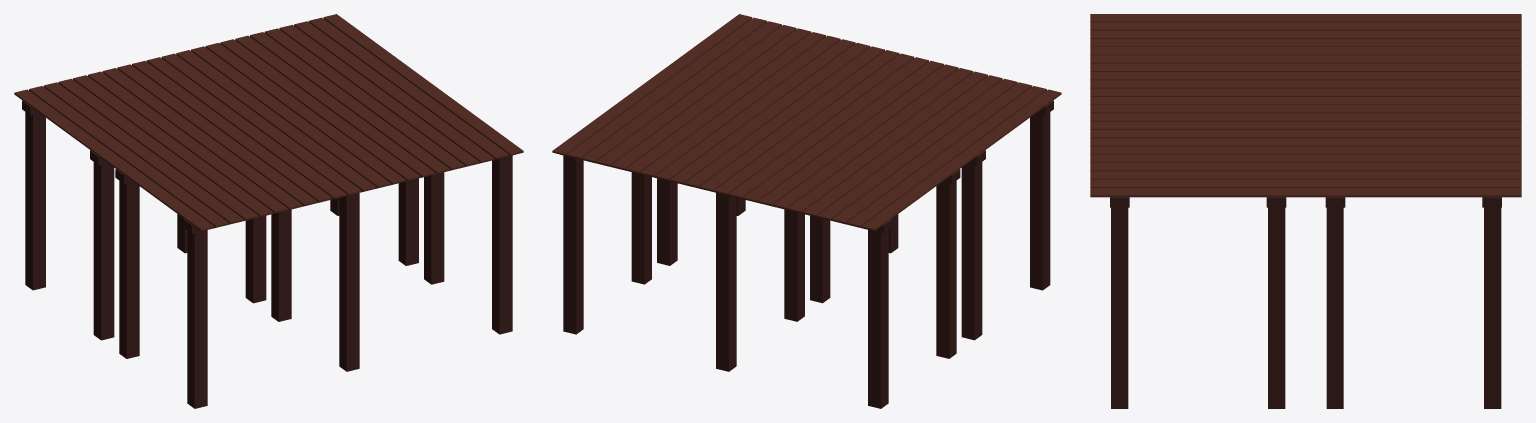
The model's file is quay.obj.
3 views of the same model, side by side, from view 1: azimuth 30°, elevation 25°; view 2: azimuth 150°, elevation 25°; view 3: azimuth 270°, elevation 25° (orthographic). The views are drawn at different scales.
Visible parts, largest first — view 1: Plane.001_Plane; view 2: Plane.001_Plane; view 3: Plane.001_Plane.
Boxes of the visible parts, x1,y1,x2,y2 form: Plane.001_Plane: (14,14,523,408); Plane.001_Plane: (552,14,1061,408); Plane.001_Plane: (1090,14,1521,408).
Bounding box in the file's own units: 2 × 1.1 × 2.
